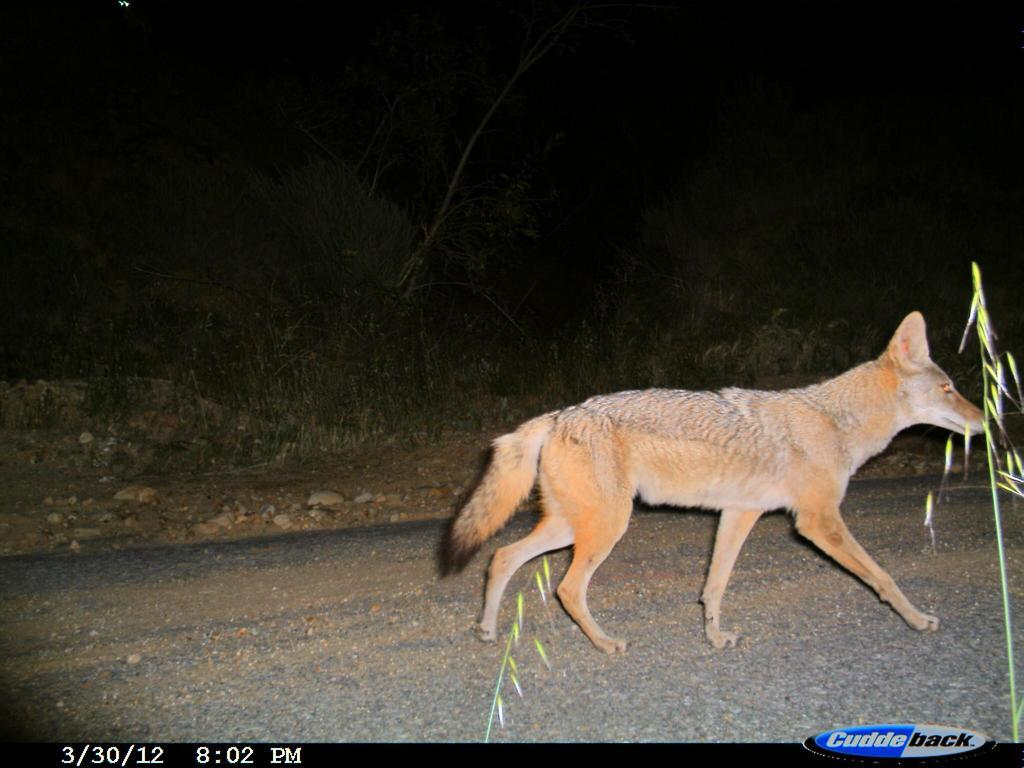coyote: (433, 309, 995, 655)
